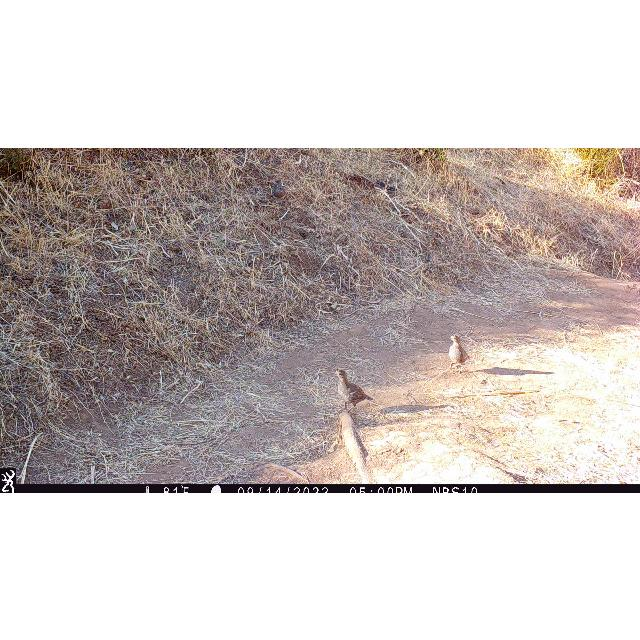animals: (335, 368, 375, 412), (448, 331, 472, 371), (270, 182, 286, 200)
